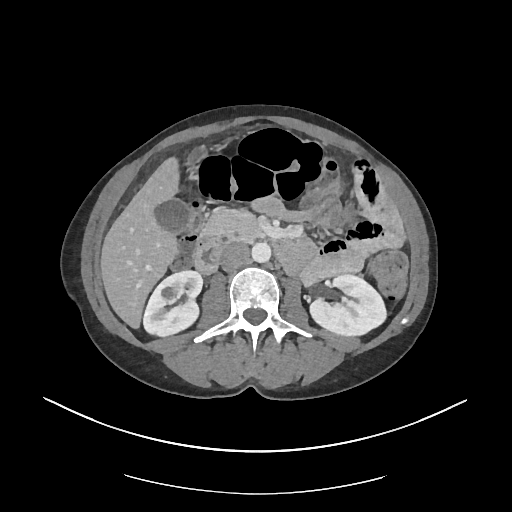Lesion: (158, 280, 181, 303)
